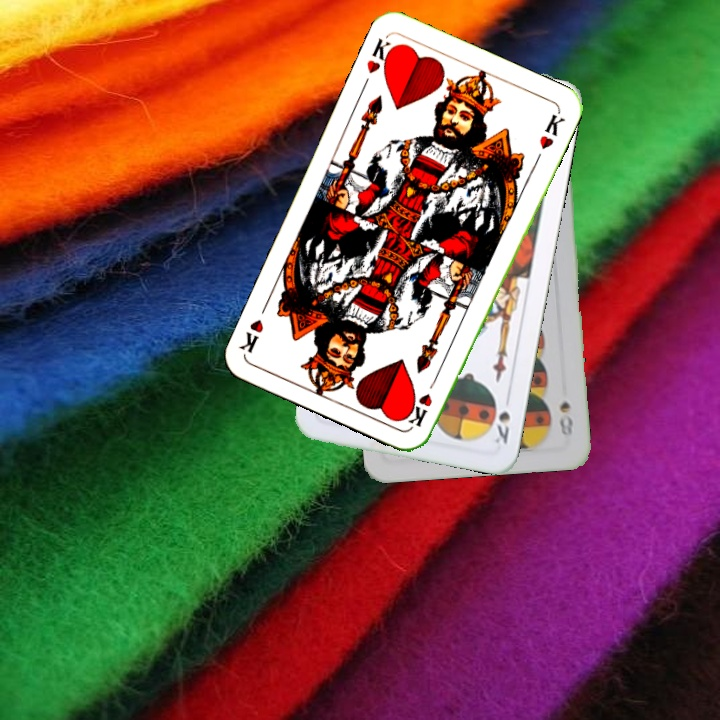HK: (404, 373, 440, 429), (362, 32, 400, 76)
S8: (555, 397, 575, 438)
SK: (488, 390, 513, 447)
